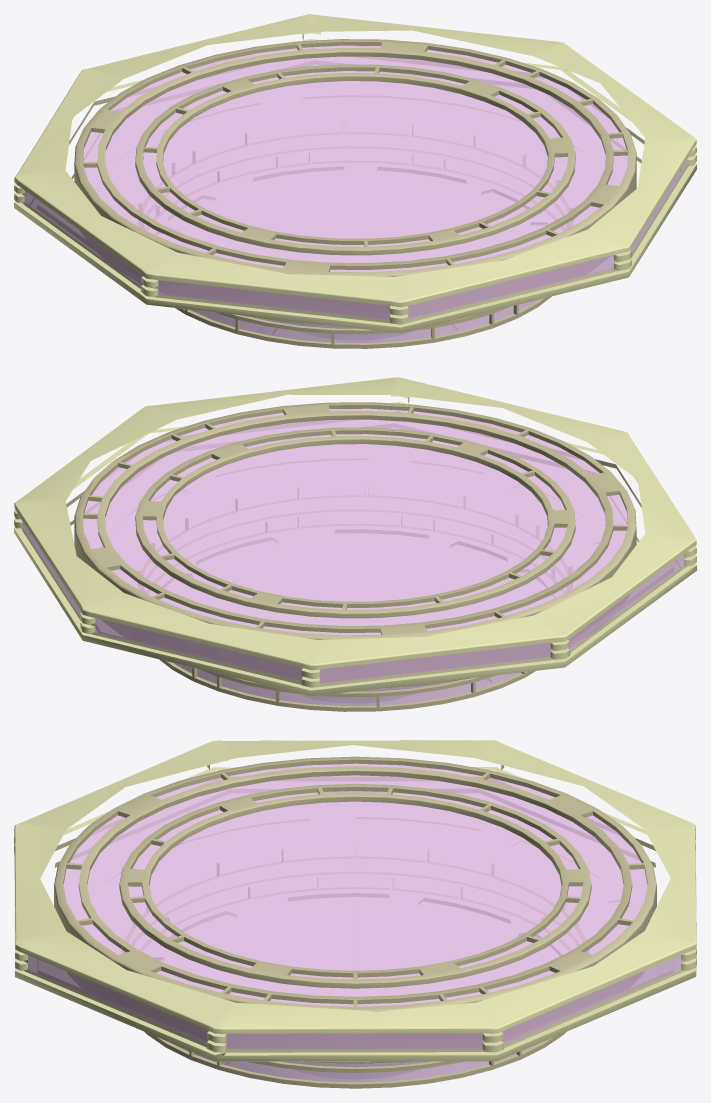
File: platform.glb
3 views of the same model, one above another, from view 1: azimuth 30°, elevation 25°; view 2: azimuth 150°, elevation 25°; view 3: azimuth 270°, elevation 25° (orthographic). The views are drawn at different scales.
Parts seen in each view (by area): view 1: platform; view 2: platform; view 3: platform.
Part boxes in pixels (x1,y1,x2,y2): platform: (14,14,696,348); platform: (14,377,696,711); platform: (14,740,696,1088).
Size of the model in its own units: 441 by 130 by 441.
